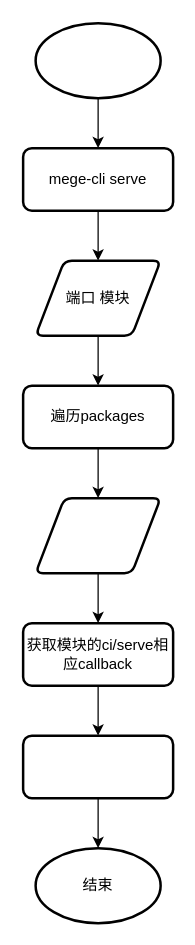
Image size: 195x945. Some labels were removed from this diagram. Here are the shapes that lost their labels. From the top down, the centre of each, then its label:
At pixel 97 60: "开始".
At pixel 97 535: "模块信息列表".
At pixel 97 766: "生成Launcher".
